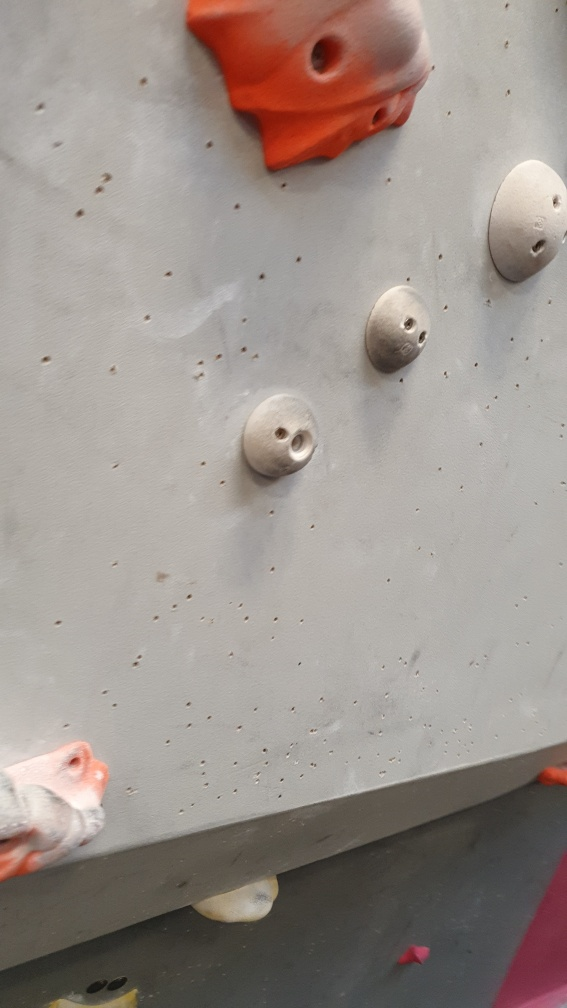Jug: (1, 740, 118, 890)
Sloper: (482, 153, 567, 289), (238, 383, 321, 487), (359, 276, 436, 376)
